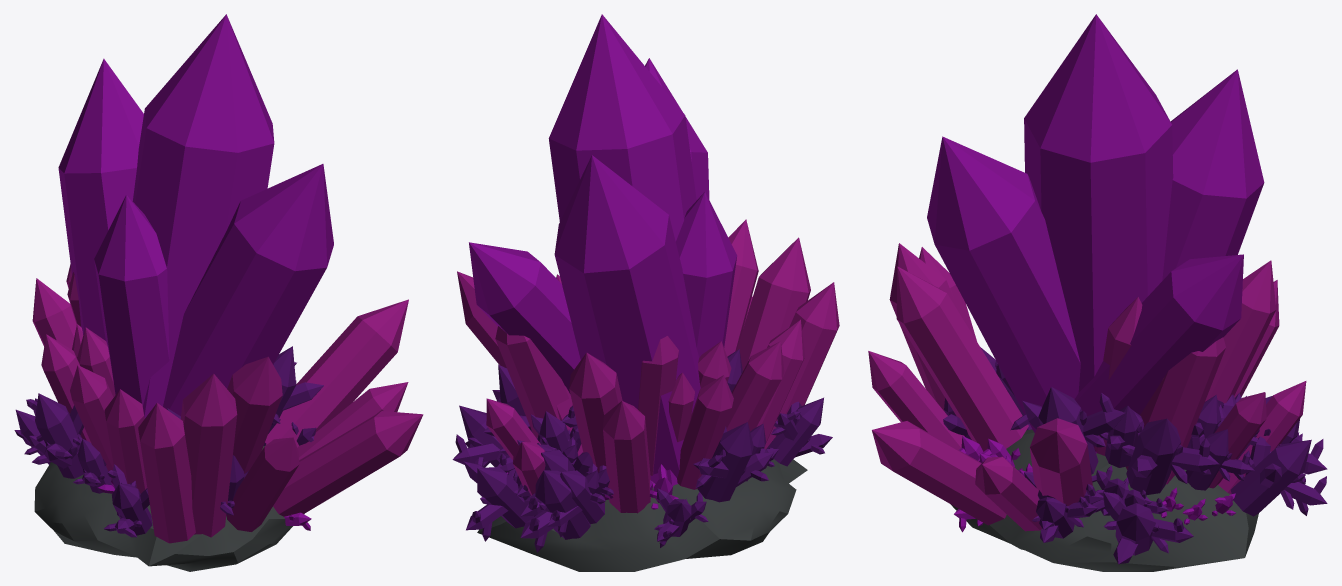
Rendered from Crystal1 1.fbx.
3 views of the same model, side by side, from view 1: azimuth 30°, elevation 25°; view 2: azimuth 150°, elevation 25°; view 3: azimuth 270°, elevation 25° (orthographic). The views are drawn at different scales.
Parts seen in each view (by area): view 1: Cylinder.027, Cylinder.028, Cylinder.029, Cylinder.026, rock.001, rock.001|Cylinder.025|Dupli|10, rock.001|Cylinder.025|Dupli|57, rock.001|Cylinder.025|Dupli|55, rock.001|Cylinder.025|Dupli|40, rock.001|Cylinder.025|Dupli|5, rock.001|Cylinder.025|Dupli|26, rock.001|Cylinder.021|Dupli|52 (+11 smaller); view 2: Cylinder.029, Cylinder.027, rock.001, Cylinder.030, Cylinder.026, rock.001|Cylinder.025|Dupli|55, rock.001|Cylinder.025|Dupli|12, rock.001|Cylinder.025|Dupli|46, rock.001|Cylinder.025|Dupli|35, rock.001|Cylinder.025|Dupli|40, rock.001|Cylinder.021|Dupli|52, rock.001|Cylinder.025|Dupli|37 (+19 smaller); view 3: Cylinder.027, Cylinder.028, Cylinder.029, Cylinder.030, rock.001, rock.001|Cylinder.025|Dupli|5, rock.001|Cylinder.025|Dupli|57, rock.001|Cylinder.021|Dupli|9, rock.001|Cylinder.021|Dupli|31, rock.001|Cylinder.025|Dupli|35, rock.001|Cylinder.025|Dupli|46, rock.001|Cylinder.025|Dupli|10 (+16 smaller).
Part boxes in pixels (x1=…): Cylinder.027: x1=132, y1=14, x2=274, y2=418; Cylinder.028: x1=163, y1=164, x2=333, y2=416; Cylinder.029: x1=58, y1=58, x2=143, y2=340; Cylinder.026: x1=94, y1=195, x2=169, y2=406; rock.001: x1=34, y1=445, x2=292, y2=571; rock.001|Cylinder.025|Dupli|10: x1=265, y1=299, x2=408, y2=447; rock.001|Cylinder.025|Dupli|57: x1=273, y1=411, x2=423, y2=516; rock.001|Cylinder.025|Dupli|55: x1=180, y1=373, x2=237, y2=537; rock.001|Cylinder.025|Dupli|40: x1=138, y1=403, x2=195, y2=543; rock.001|Cylinder.025|Dupli|5: x1=227, y1=356, x2=282, y2=473; rock.001|Cylinder.025|Dupli|26: x1=226, y1=437, x2=299, y2=531; rock.001|Cylinder.021|Dupli|52: x1=26, y1=393, x2=84, y2=478; Cylinder.029: x1=554, y1=155, x2=700, y2=477; Cylinder.027: x1=548, y1=14, x2=696, y2=485; rock.001: x1=477, y1=459, x2=807, y2=571; Cylinder.030: x1=469, y1=242, x2=580, y2=393; Cylinder.026: x1=676, y1=192, x2=737, y2=357; rock.001|Cylinder.025|Dupli|55: x1=736, y1=237, x2=810, y2=370; rock.001|Cylinder.025|Dupli|12: x1=603, y1=401, x2=650, y2=513; rock.001|Cylinder.025|Dupli|46: x1=495, y1=326, x2=568, y2=438; rock.001|Cylinder.025|Dupli|35: x1=569, y1=352, x2=622, y2=487; rock.001|Cylinder.025|Dupli|40: x1=764, y1=282, x2=839, y2=449; rock.001|Cylinder.021|Dupli|52: x1=693, y1=422, x2=773, y2=502; rock.001|Cylinder.025|Dupli|37: x1=677, y1=375, x2=733, y2=489; Cylinder.027: x1=1024, y1=14, x2=1173, y2=453; Cylinder.028: x1=927, y1=136, x2=1080, y2=433; Cylinder.029: x1=1162, y1=69, x2=1264, y2=280; Cylinder.030: x1=1074, y1=254, x2=1243, y2=451; rock.001: x1=950, y1=429, x2=1258, y2=571; rock.001|Cylinder.025|Dupli|5: x1=896, y1=266, x2=1028, y2=451; rock.001|Cylinder.025|Dupli|57: x1=872, y1=421, x2=1006, y2=525; rock.001|Cylinder.021|Dupli|9: x1=1230, y1=436, x2=1327, y2=516; rock.001|Cylinder.021|Dupli|31: x1=1122, y1=410, x2=1219, y2=495; rock.001|Cylinder.025|Dupli|35: x1=1205, y1=260, x2=1276, y2=403; rock.001|Cylinder.025|Dupli|46: x1=1126, y1=337, x2=1225, y2=484; rock.001|Cylinder.025|Dupli|10: x1=1029, y1=418, x2=1092, y2=506.
Size of the model in its own units: 383 by 533 by 414.
